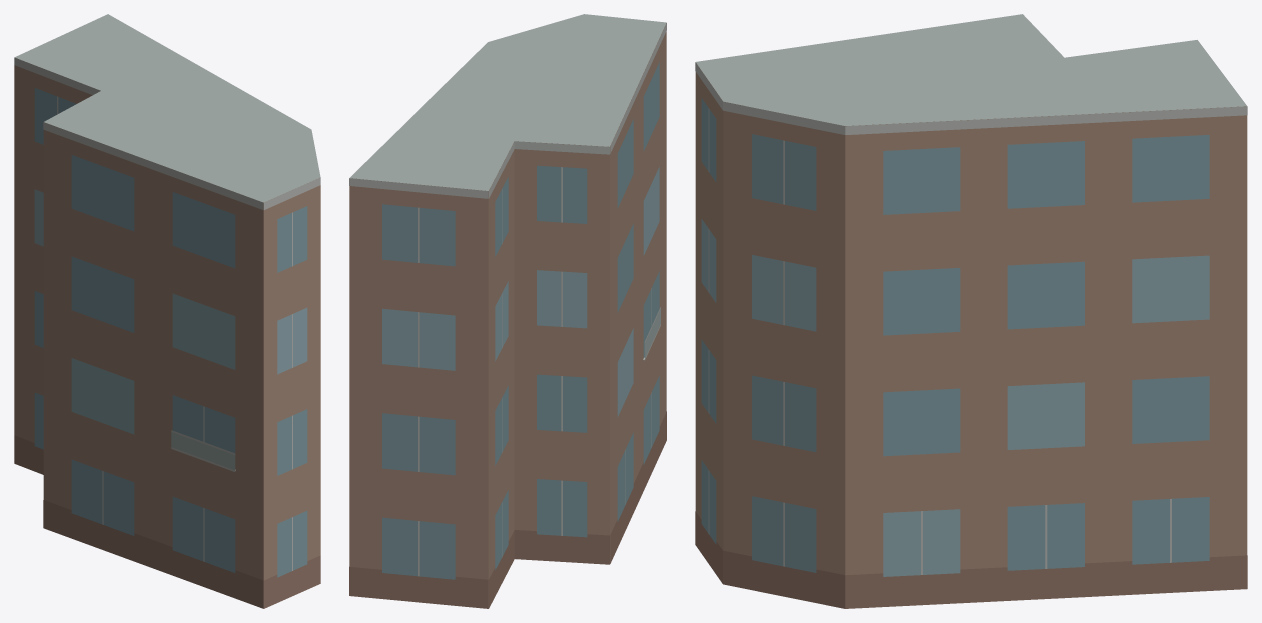
File: survey-upis-32464769.glb
3 renders of one model, left to right at view 1: azimuth 30°, elevation 25°; view 2: azimuth 150°, elevation 25°; view 3: azimuth 270°, elevation 25°, orthographic. The views are drawn at different scales.
Parts seen in each view (by area): view 1: survey-upis-32464769.tmp; view 2: survey-upis-32464769.tmp; view 3: survey-upis-32464769.tmp.
Part boxes in pixels (x1=…): survey-upis-32464769.tmp: x1=14, y1=14, x2=320, y2=608; survey-upis-32464769.tmp: x1=349, y1=14, x2=666, y2=608; survey-upis-32464769.tmp: x1=695, y1=14, x2=1247, y2=608.
Size of the model in its own units: 6.48 by 13 by 13.48.
